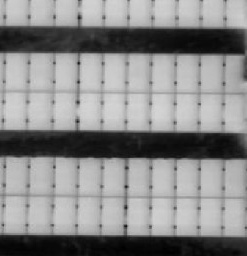solar: (1, 51, 31, 93), (26, 51, 56, 93), (51, 51, 81, 93), (75, 51, 105, 93), (100, 51, 130, 93), (124, 51, 154, 93), (148, 51, 178, 93), (172, 52, 202, 94), (197, 52, 227, 94), (197, 91, 227, 133), (171, 91, 201, 133), (148, 91, 178, 133), (123, 91, 153, 133), (98, 91, 128, 133), (75, 91, 105, 133), (50, 91, 80, 133), (25, 91, 55, 133), (1, 155, 31, 197), (27, 155, 57, 197), (49, 155, 79, 197), (74, 155, 104, 197), (98, 155, 128, 197), (122, 156, 152, 198), (147, 156, 177, 198), (172, 156, 202, 198), (196, 157, 226, 199), (217, 157, 247, 199), (217, 194, 247, 236), (195, 194, 225, 236), (172, 194, 202, 236), (148, 194, 178, 236), (124, 193, 154, 235), (98, 194, 128, 236), (74, 195, 104, 237), (50, 193, 80, 235), (26, 193, 56, 235), (1, 91, 30, 133), (1, 193, 29, 235)
